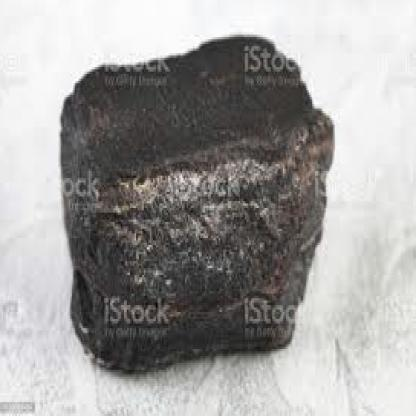Metamorphic_Quartize: (42, 26, 334, 382)
